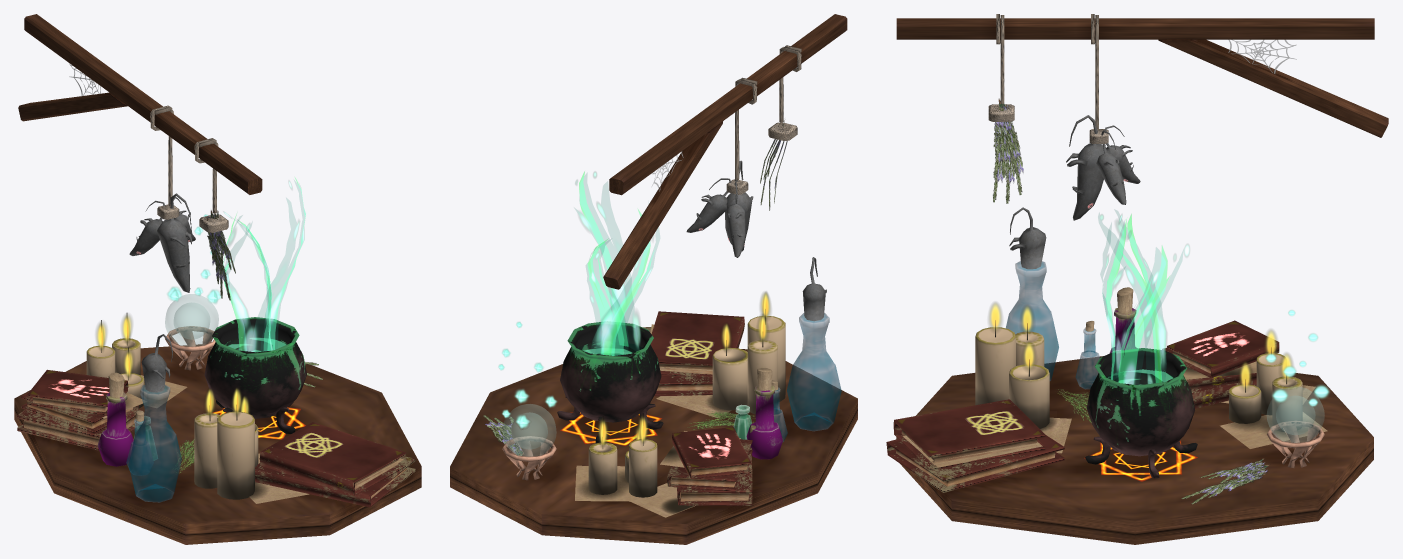
The model's file is witchs_table.gltf.
The picture shows the model from 3 angles, left to right: view 1: azimuth 30°, elevation 25°; view 2: azimuth 150°, elevation 25°; view 3: azimuth 270°, elevation 25°; orthographic projection. The views are drawn at different scales.
Parts seen in each view (by area): view 1: Table, Books.002, Candles 2, mug, bottle 3.000, smoke, bottle 3.002, Crystal ball, bottle 3.004, paper 6, rope, Grass1 .001 (+2 smaller); view 2: Table, Books.002, Candles 2, mug, smoke, bottle 3.000, paper 6, Crystal ball, bottle 3.002, bottle 3.004, rope, Fire (+4 smaller); view 3: Table, Books.002, Candles 2, mug, smoke, bottle 3.000, bottle 3.004, Crystal ball, paper 6, bottle 3.002, rope, Grass1 .001 (+4 smaller).
Boxes of the visible parts, left/top/right/bottom form: Table: left=14, top=14, right=421, bottom=544; Books.002: left=17, top=369, right=415, bottom=507; Candles 2: left=86, top=313, right=258, bottom=499; mug: left=204, top=317, right=306, bottom=433; bottle 3.000: left=128, top=334, right=181, bottom=502; smoke: left=223, top=178, right=305, bottom=351; bottle 3.002: left=97, top=372, right=157, bottom=475; Crystal ball: left=165, top=294, right=218, bottom=370; bottle 3.004: left=129, top=193, right=195, bottom=292; paper 6: left=102, top=375, right=403, bottom=503; rope: left=150, top=105, right=228, bottom=232; Grass1 .001: left=206, top=210, right=235, bottom=300; Table: left=450, top=14, right=857, bottom=544; Books.002: left=643, top=311, right=752, bottom=505; Candles 2: left=588, top=291, right=785, bottom=497; mug: left=557, top=322, right=663, bottom=443; smoke: left=575, top=171, right=659, bottom=355; bottle 3.000: left=787, top=257, right=841, bottom=431; paper 6: left=575, top=324, right=740, bottom=517; Crystal ball: left=502, top=404, right=556, bottom=480; bottle 3.002: left=733, top=368, right=787, bottom=459; bottle 3.004: left=686, top=160, right=753, bottom=257; rope: left=726, top=45, right=801, bottom=194; Fire: left=560, top=412, right=662, bottom=446; Table: left=896, top=18, right=1388, bottom=544; Books.002: left=886, top=320, right=1279, bottom=492; Candles 2: left=975, top=302, right=1302, bottom=431; mug: left=1085, top=348, right=1197, bottom=478; smoke: left=1098, top=210, right=1189, bottom=384; bottle 3.000: left=1006, top=207, right=1058, bottom=380; bottle 3.004: left=1066, top=115, right=1140, bottom=220; Crystal ball: left=1266, top=386, right=1324, bottom=467; paper 6: left=903, top=361, right=1327, bottom=467; bottle 3.002: left=1075, top=287, right=1137, bottom=389; rope: left=988, top=14, right=1108, bottom=143; Grass1 .001: left=993, top=98, right=1023, bottom=203.
Size of the model in its own units: 1002 by 1101 by 1245.
Materials: 23 (22 with a texture image).
